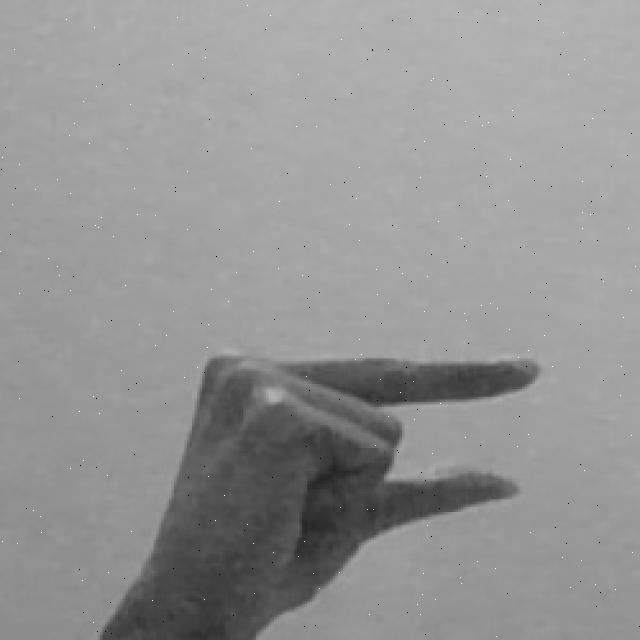G: (94, 345, 543, 640)
